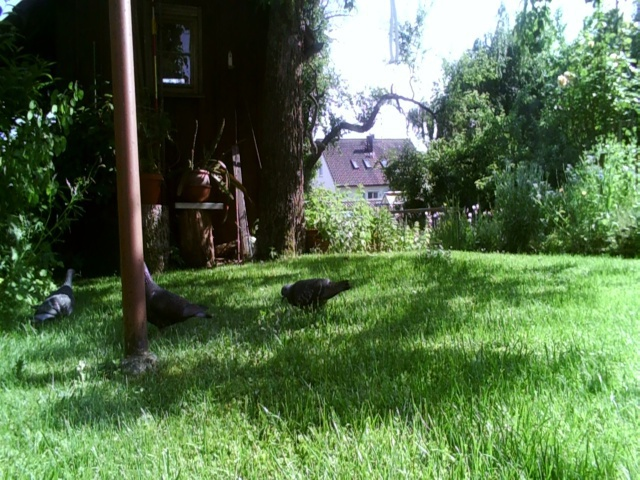Pigeon: (141, 252, 215, 342), (279, 273, 358, 324), (30, 263, 84, 328)
